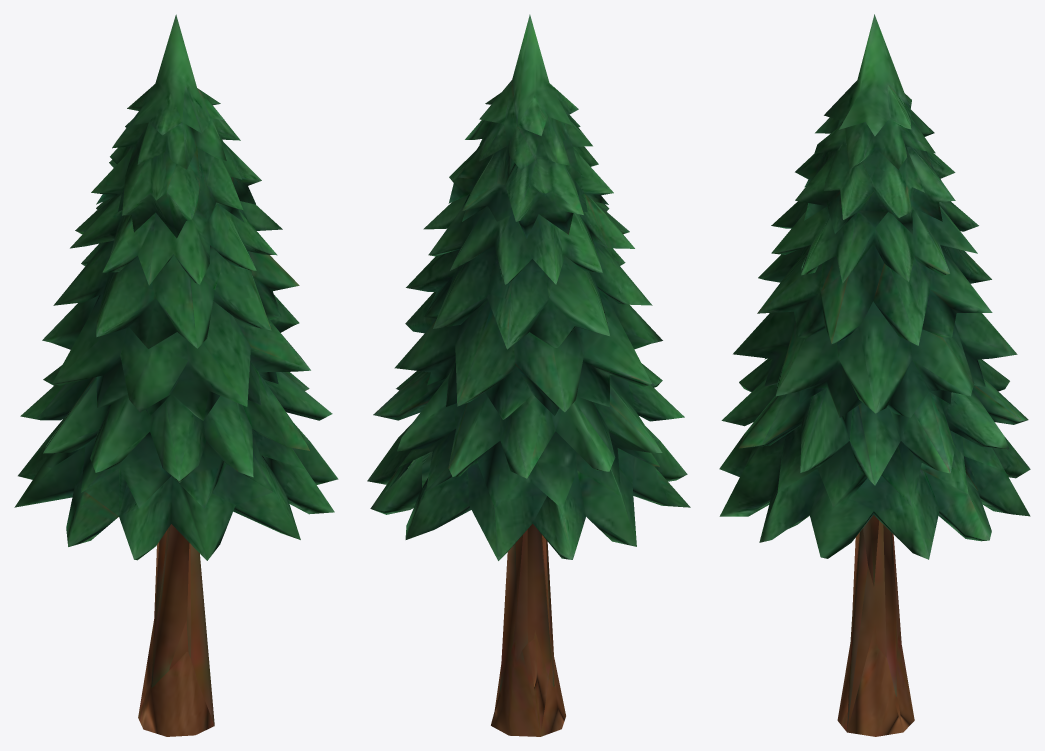
File: pine.glb
3 renders of one model, left to right at view 1: azimuth 30°, elevation 25°; view 2: azimuth 150°, elevation 25°; view 3: azimuth 270°, elevation 25°, orthographic.
Bounding box in the file's own units: 0.7581 × 1.9 × 0.7585.
1 material, 1 textured.
